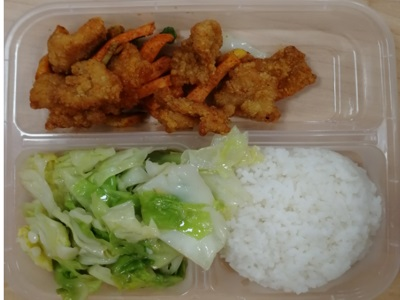cch: (26, 153, 175, 283)
r5: (40, 20, 275, 122)
rice: (245, 157, 368, 284)
